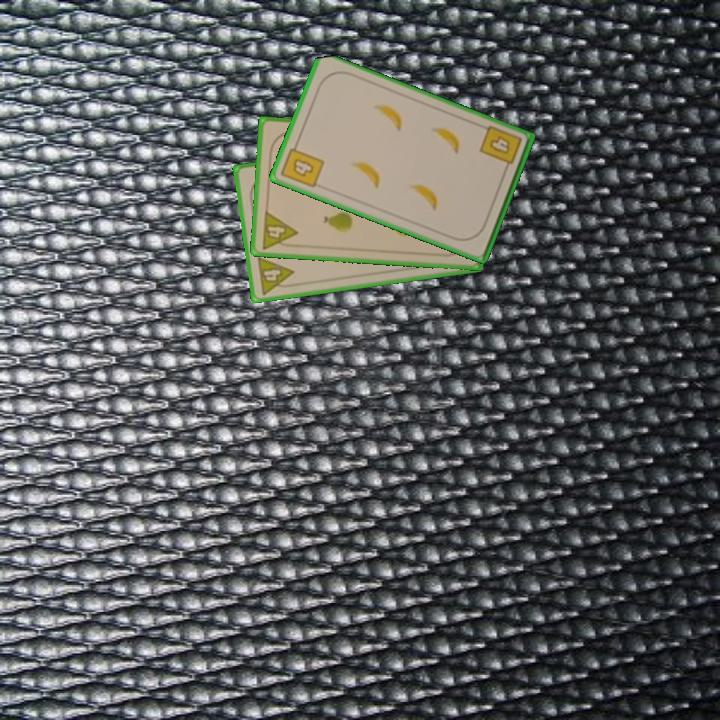4b: (277, 138, 327, 191), (476, 122, 524, 175)
4p: (254, 253, 298, 297), (258, 207, 300, 252)
